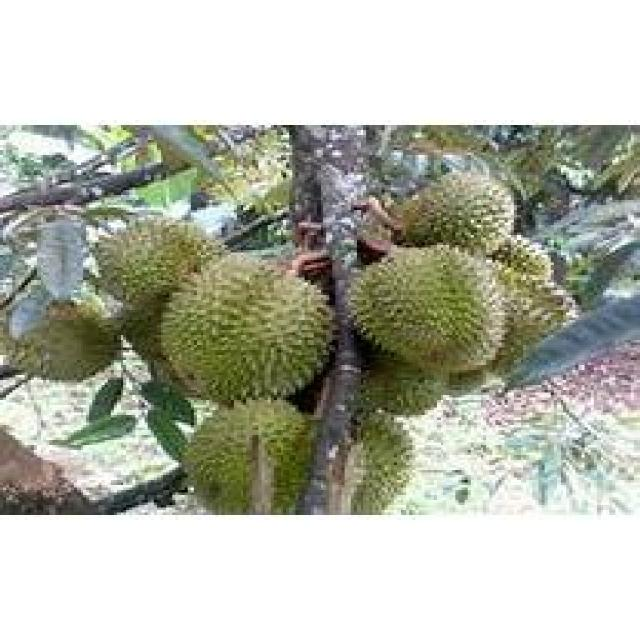fruit: (329, 212, 557, 438), (144, 233, 348, 425), (3, 282, 129, 402)
